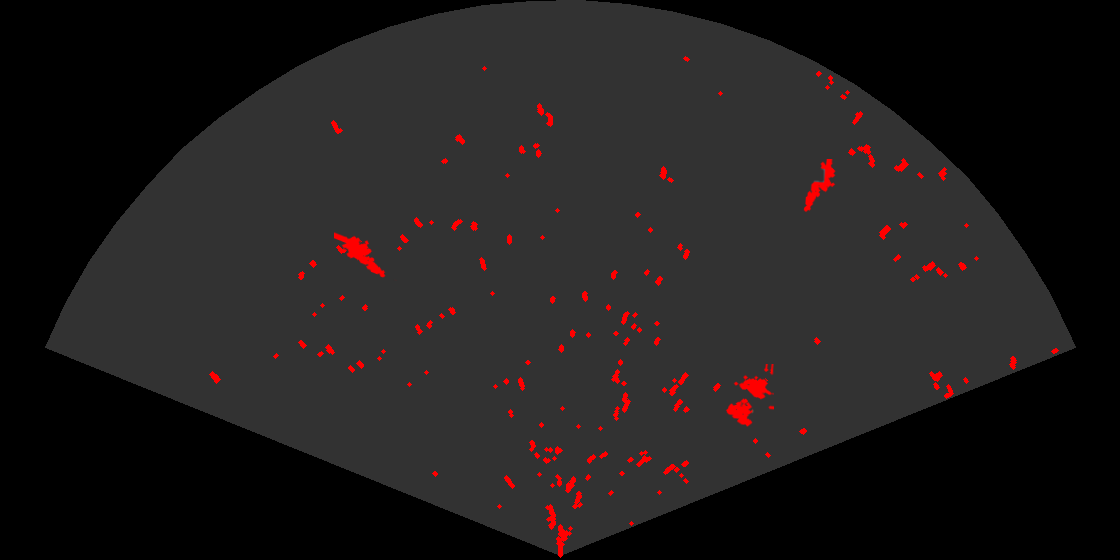cage: (724, 364, 774, 429)
frogman: (334, 231, 397, 281), (802, 159, 837, 214)
